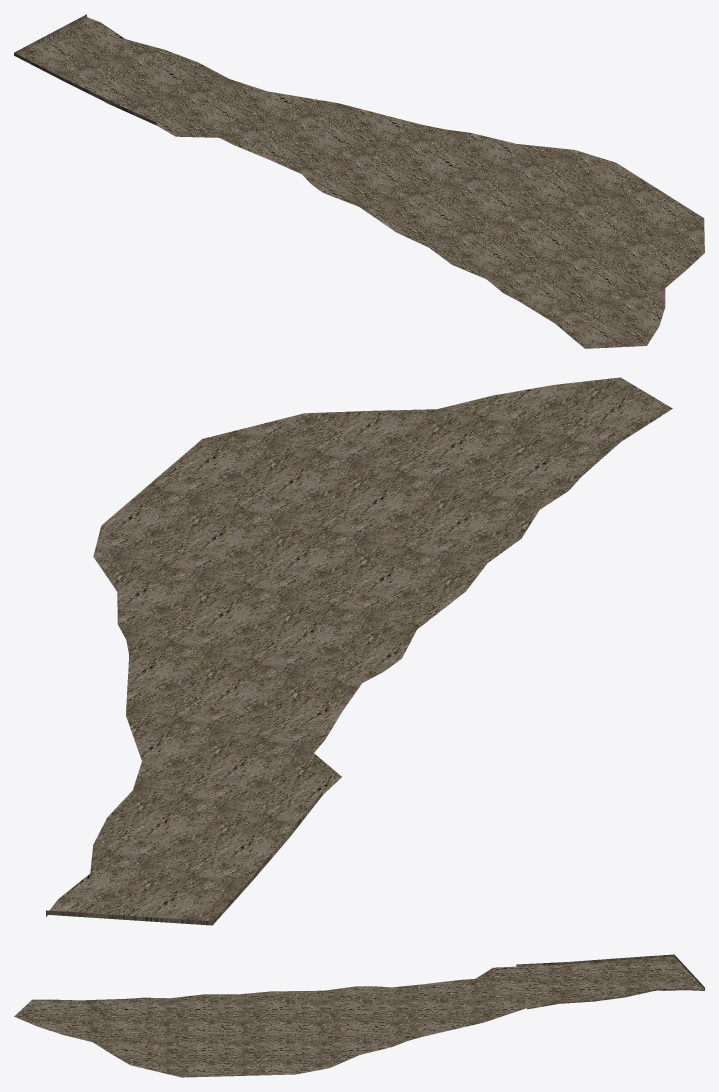
The model's file is lodfftestgrnd.obj.
3 renders of one model, top to bottom at view 1: azimuth 30°, elevation 25°; view 2: azimuth 150°, elevation 25°; view 3: azimuth 270°, elevation 25°, orthographic. The views are drawn at different scales.
Parts seen in each view (by area): view 1: LODfftestgrnd; view 2: LODfftestgrnd; view 3: LODfftestgrnd.
Boxes of the visible parts, <box> form: LODfftestgrnd: <box>14,14,704,348</box>; LODfftestgrnd: <box>46,377,672,925</box>; LODfftestgrnd: <box>14,954,704,1077</box>.
Bounding box in the file's own units: 71.03 × 1.37 × 169.
1 material, 1 textured.
